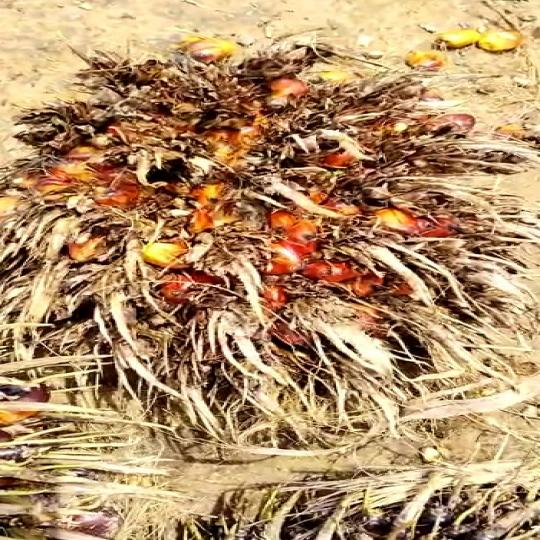terlalu masak: (0, 23, 540, 453)
